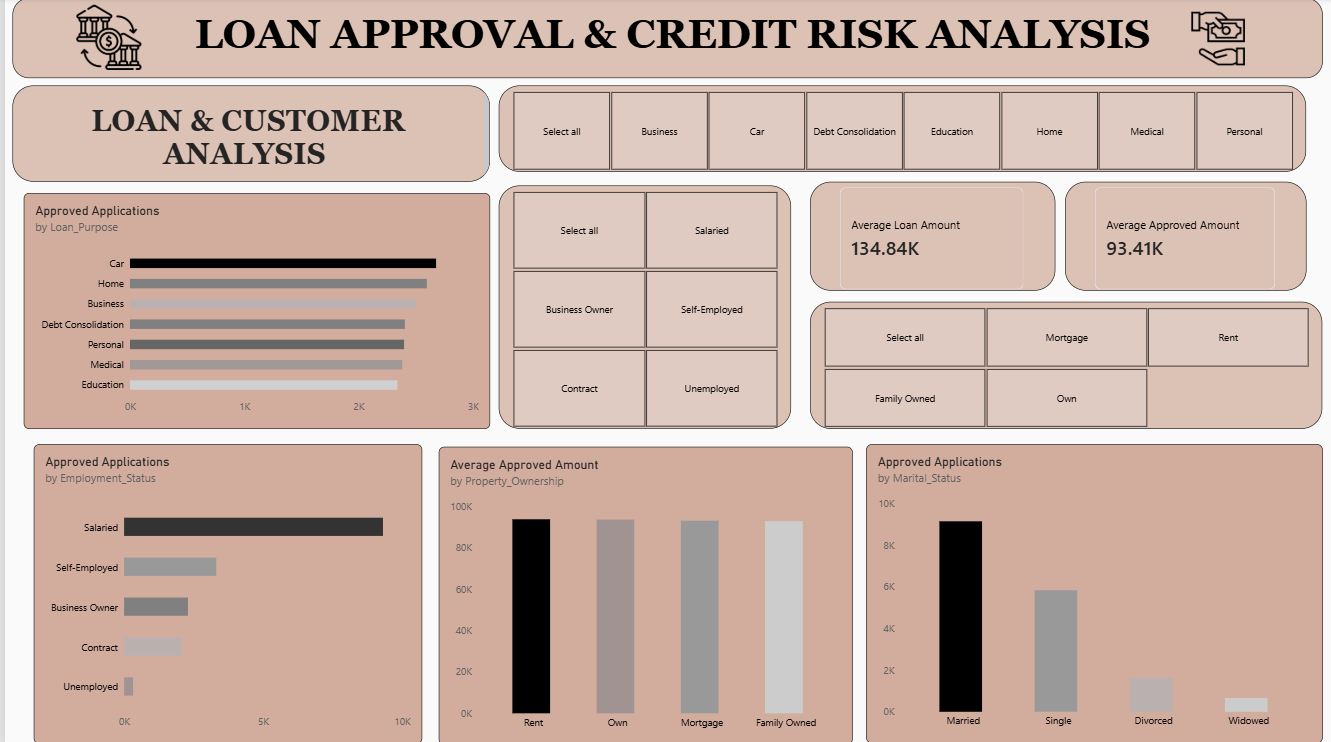

The page's visual inventory and layout, read from the dashboard file:
{"tool":"powerbi","page":{"name":"Loan and customer analysis","canvas":[1920,1080],"ordinal":2},"visuals":[{"type":"textbox","box":[10,0,280,280],"z":0},{"type":"textbox","box":[10.9,0,1896.5,115.8],"z":1000},{"type":"textbox","box":[10.9,126.7,691.3,139.3],"z":2000},{"type":"cardVisual","fields":{"Data":["loans.Average Loan Amount"]},"box":[1164.5,265.5,354.9,157.7],"z":3000},{"type":"cardVisual","fields":{"Data":["loans.Average Approved Amount"]},"box":[1535.2,265.5,349.6,157.7],"z":4000},{"type":"image","box":[103.2,9,94.1,95.9],"z":5000},{"type":"image","box":[1663.1,19.9,186.4,77.8],"z":6000},{"type":"clusteredColumnChart","fields":{"Category":["loans.Property_Ownership"],"Y":["loans.Average Approved Amount"]},"box":[628.3,649.3,599.4,431.1],"z":7000},{"type":"clusteredColumnChart","fields":{"Category":["loans.Marital_Status"],"Y":["loans.Approved Applications"]},"box":[1246,646.7,660.5,432.5],"z":8000},{"type":"clusteredBarChart","fields":{"Category":["loans.Loan_Purpose"],"Y":["loans.Approved Applications"]},"box":[27.1,282.3,675.6,341.7],"z":9000},{"type":"slicer","fields":{"Values":["loans.Employment_Status"]},"box":[715,270.8,423.2,352.2],"z":10000},{"type":"slicer","fields":{"Values":["loans.Property_Ownership"]},"box":[1164.5,439,741.3,184],"z":11000},{"type":"slicer","fields":{"Values":["loans.Loan_Purpose"]},"box":[715,126.2,1169,124.9],"z":12000},{"type":"clusteredBarChart","fields":{"Category":["loans.Employment_Status"],"Y":["loans.Approved Applications"]},"box":[42.1,646.7,562.5,433.7],"z":13000}]}

Visuals, with their boxes in screenshot pixels (x1, y1, x2, y2), scaled from the page's 1920x1080 canvas onto the 1331x742 screenshot:
textbox: [7, 0, 201, 192]
textbox: [8, 0, 1322, 80]
textbox: [8, 87, 487, 183]
cardVisual - loans.Average Loan Amount: [807, 182, 1053, 291]
cardVisual - loans.Average Approved Amount: [1064, 182, 1307, 291]
image: [72, 6, 137, 72]
image: [1153, 14, 1282, 67]
clusteredColumnChart - loans.Property_Ownership x loans.Average Approved Amount: [436, 446, 851, 741]
clusteredColumnChart - loans.Marital_Status x loans.Approved Applications: [864, 444, 1322, 741]
clusteredBarChart - loans.Loan_Purpose x loans.Approved Applications: [19, 194, 487, 429]
slicer - loans.Employment_Status: [496, 186, 789, 428]
slicer - loans.Property_Ownership: [807, 302, 1321, 428]
slicer - loans.Loan_Purpose: [496, 87, 1306, 173]
clusteredBarChart - loans.Employment_Status x loans.Approved Applications: [29, 444, 419, 741]
